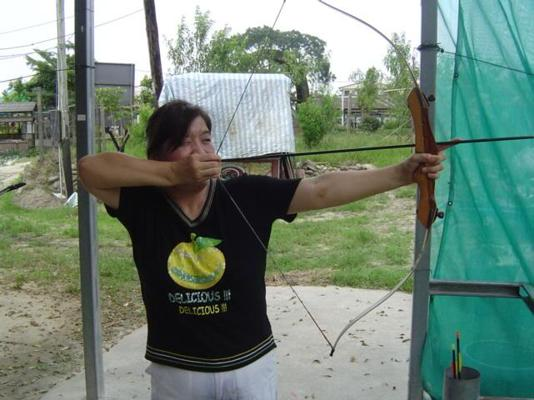person: (75, 97, 449, 398)
